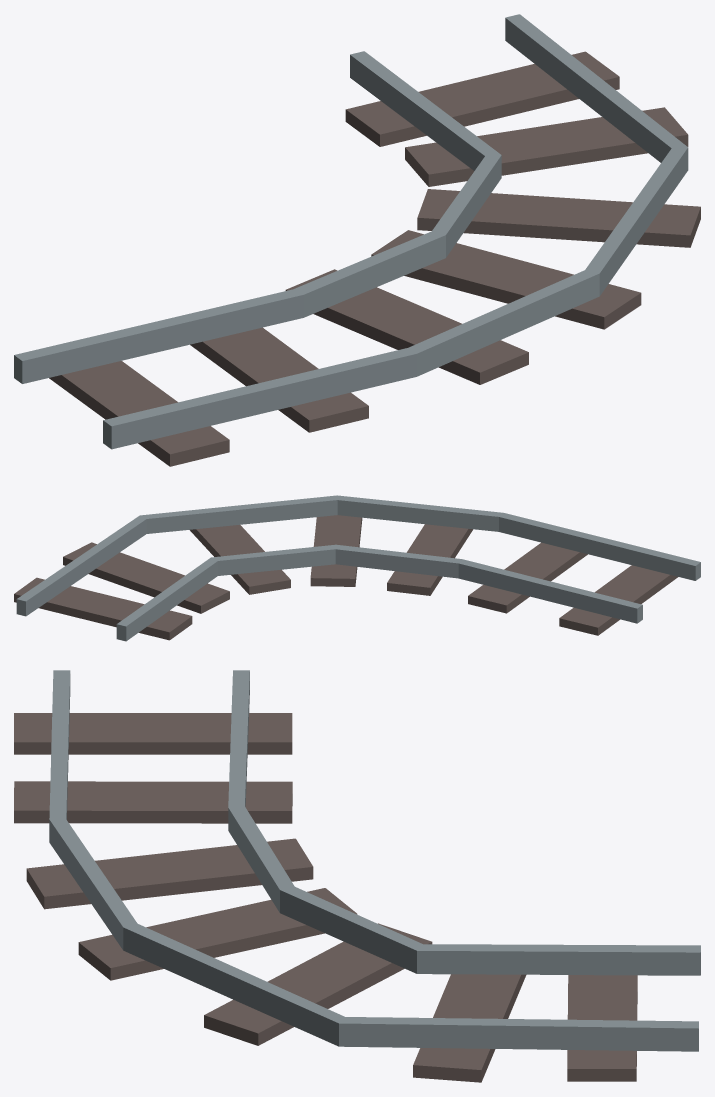
The model's file is Rail-E02.fbx.
3 views of the same model, one above another, from view 1: azimuth 30°, elevation 25°; view 2: azimuth 150°, elevation 25°; view 3: azimuth 270°, elevation 25° (orthographic). The views are drawn at different scales.
Visible parts, largest first — view 1: Rail-E02; view 2: Rail-E02; view 3: Rail-E02.
Boxes of the visible parts, x1,y1,x2,y2 form: Rail-E02: (14, 14, 700, 466); Rail-E02: (14, 495, 700, 641); Rail-E02: (14, 670, 700, 1082).
Bounding box in the file's own units: 629 × 28.05 × 485.
